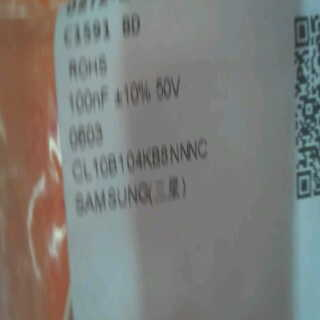100nF: (61, 81, 111, 119)
